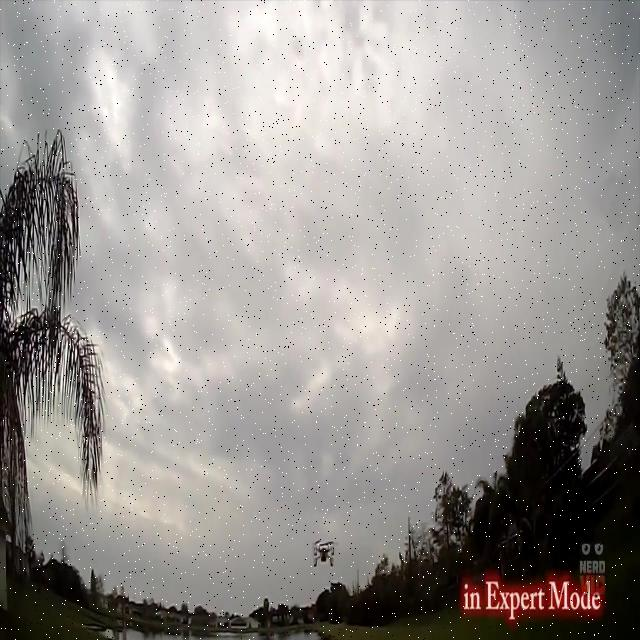UAV: (312, 541, 334, 567)
